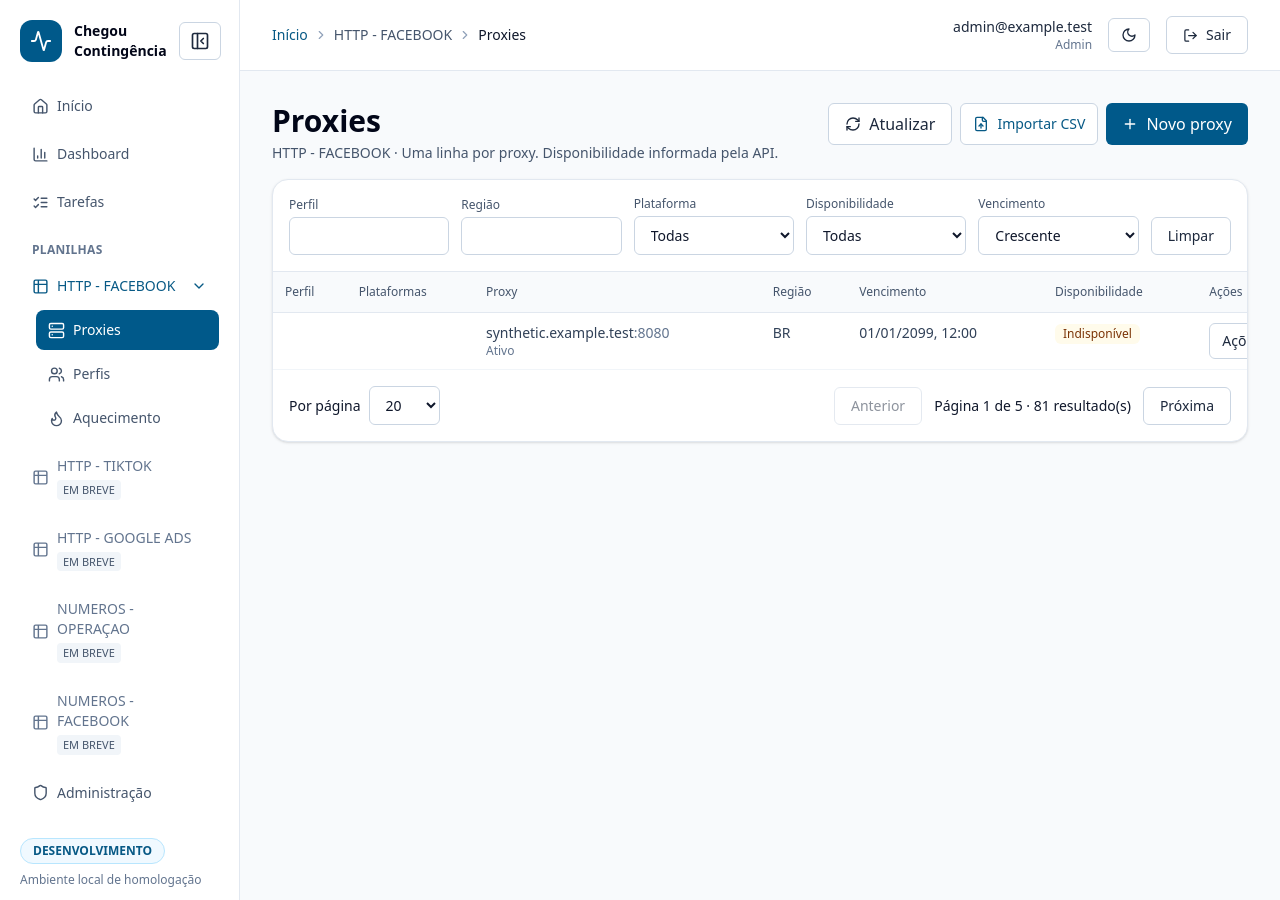
Scenario: cadastro usa CSRF existente e consome resposta 201; não usa storage
Check: the text "synthetic.example.test" is shown, box [486, 323, 634, 342]
Click the button "Novo proxy".
click(1177, 124)  # box [1106, 103, 1248, 145]
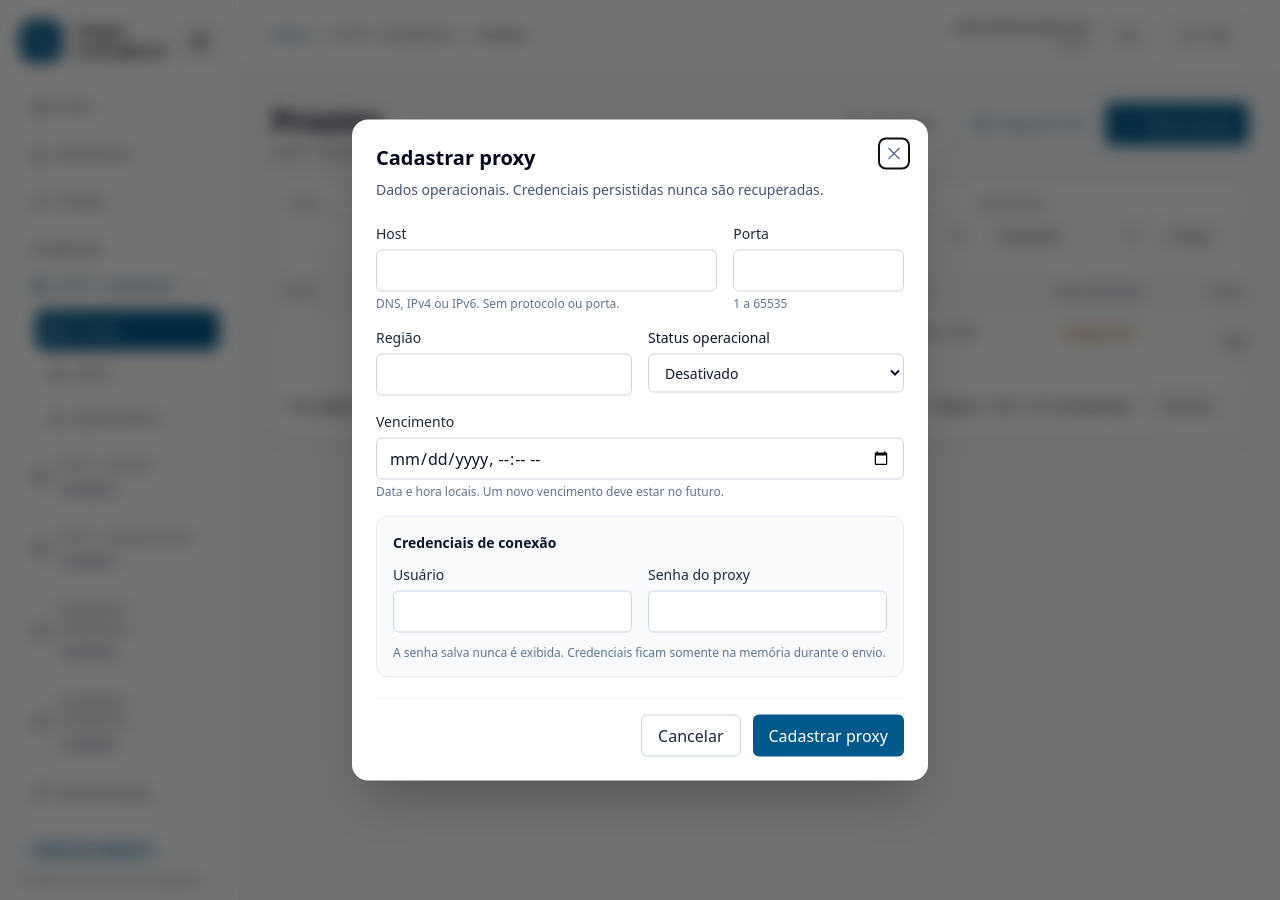
Check: the dialog is shown, box [352, 120, 928, 780]
Type "new.synthetic.test" into the field labelled "Host".
click(547, 270); type("new.synthetic.test")  # box [376, 250, 717, 292]
Type "3128" into the field labelled "Porta".
click(819, 270); type("3128")  # box [733, 250, 904, 292]
Type "BR" into the field labelled "Região".
click(504, 374); type("BR")  # box [376, 354, 632, 396]
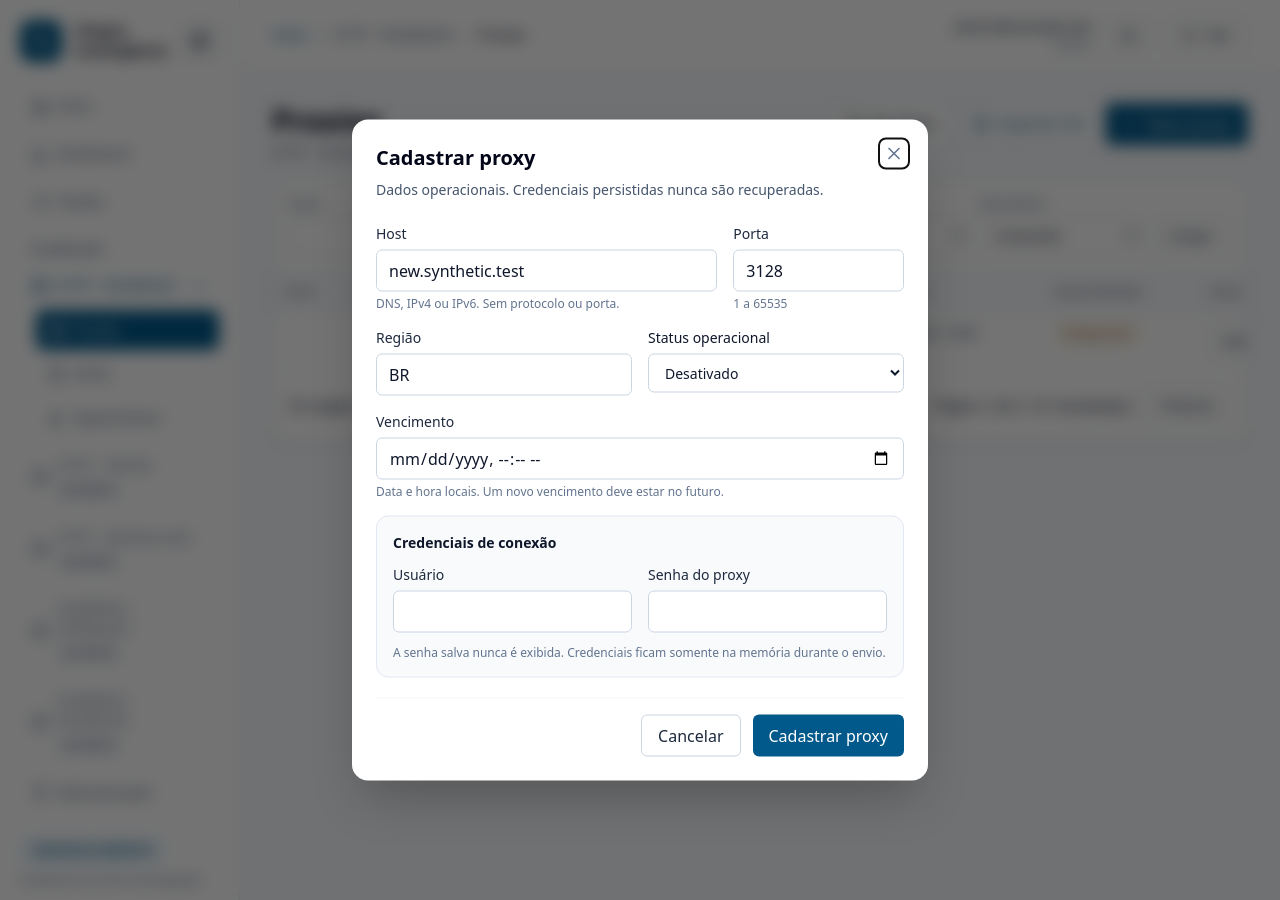
Type "2099-01-01T12:00" into the field labelled "Vencimento".
click(640, 458); type("2099-01-01T12:00")  # box [376, 438, 904, 480]
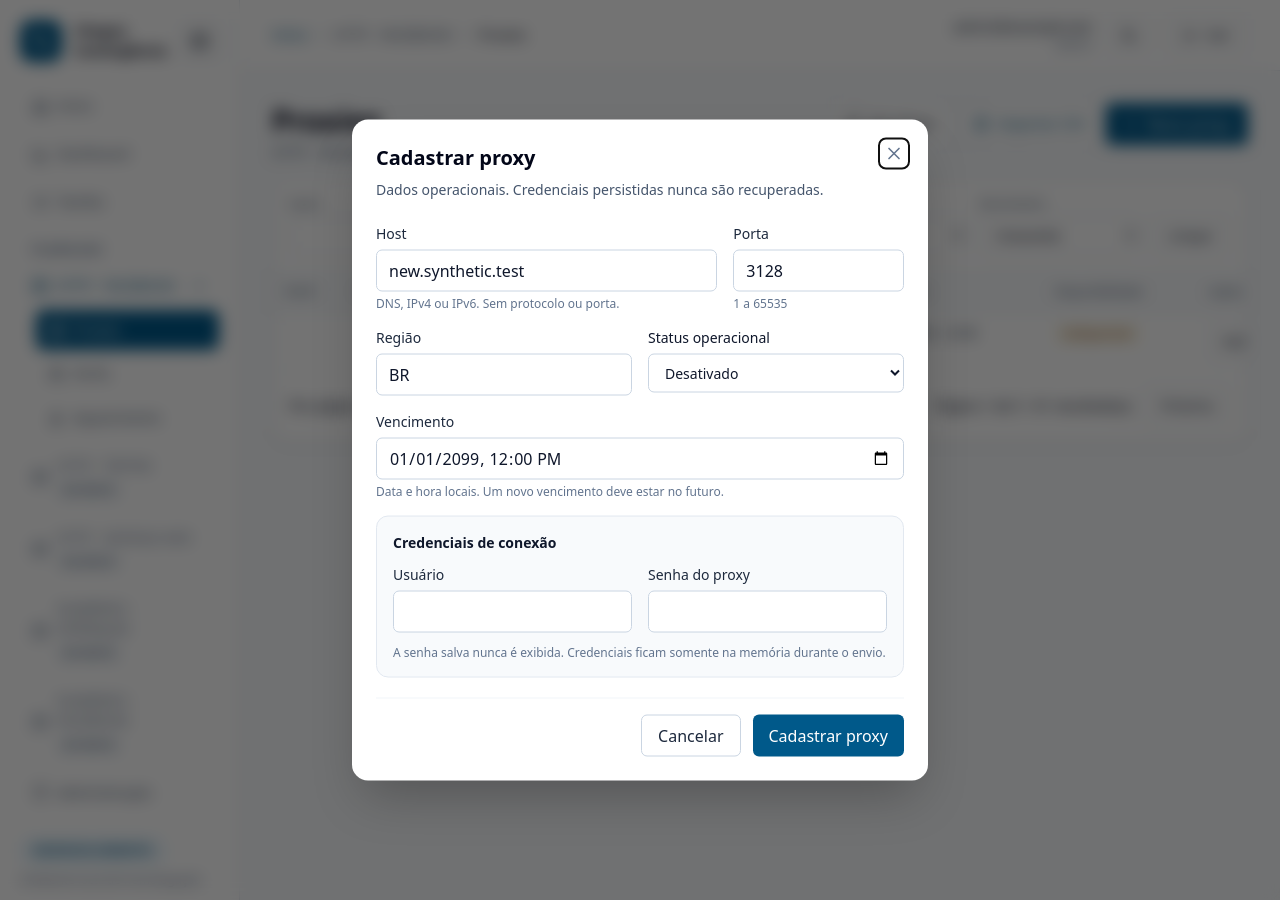
Type "synthetic-user" into the field labelled "Usuário".
click(512, 612); type("synthetic-user")  # box [393, 590, 632, 632]
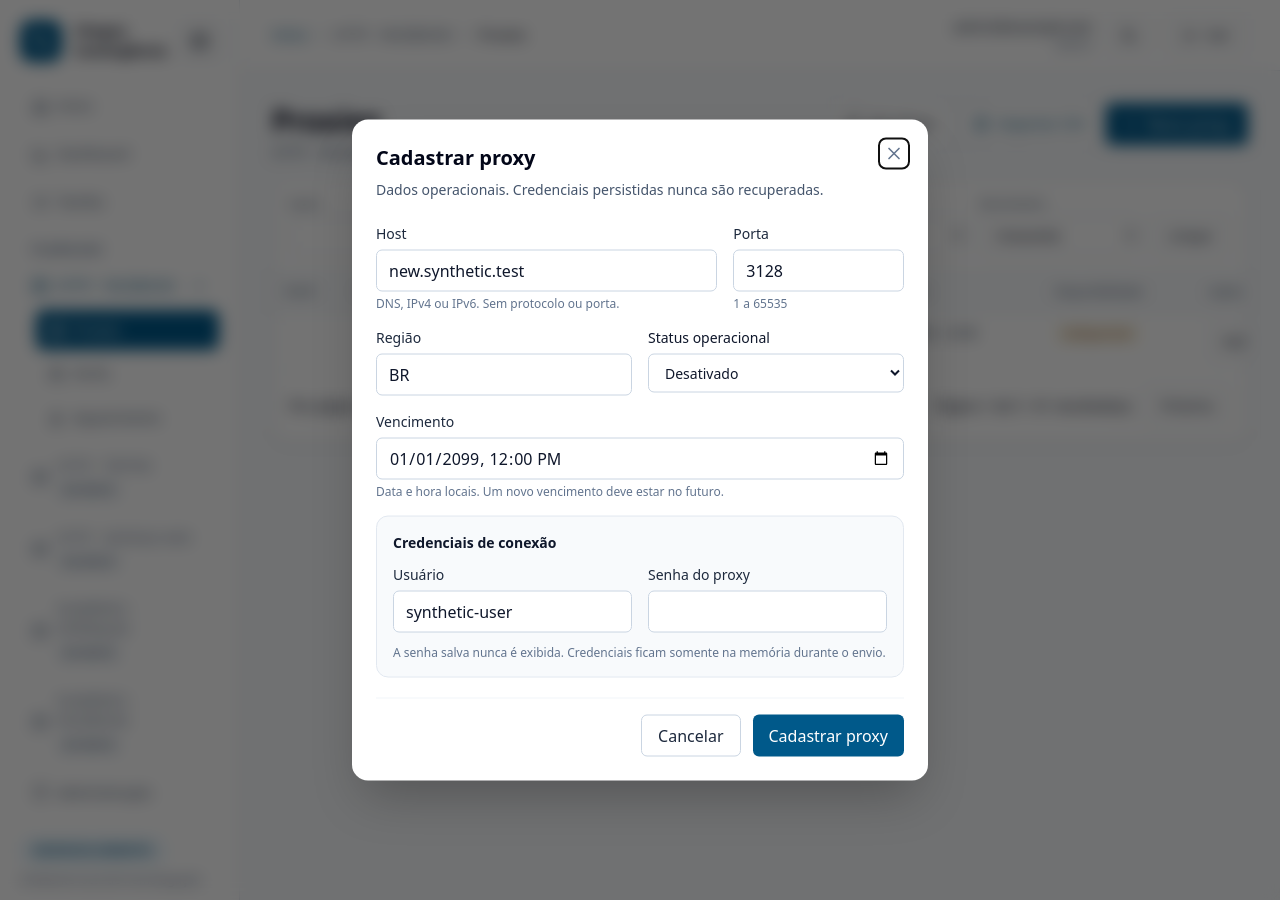
Type "Synthetic!123" into the password field labelled "Senha do proxy".
click(768, 612); type("Synthetic!123")  # box [648, 590, 887, 632]
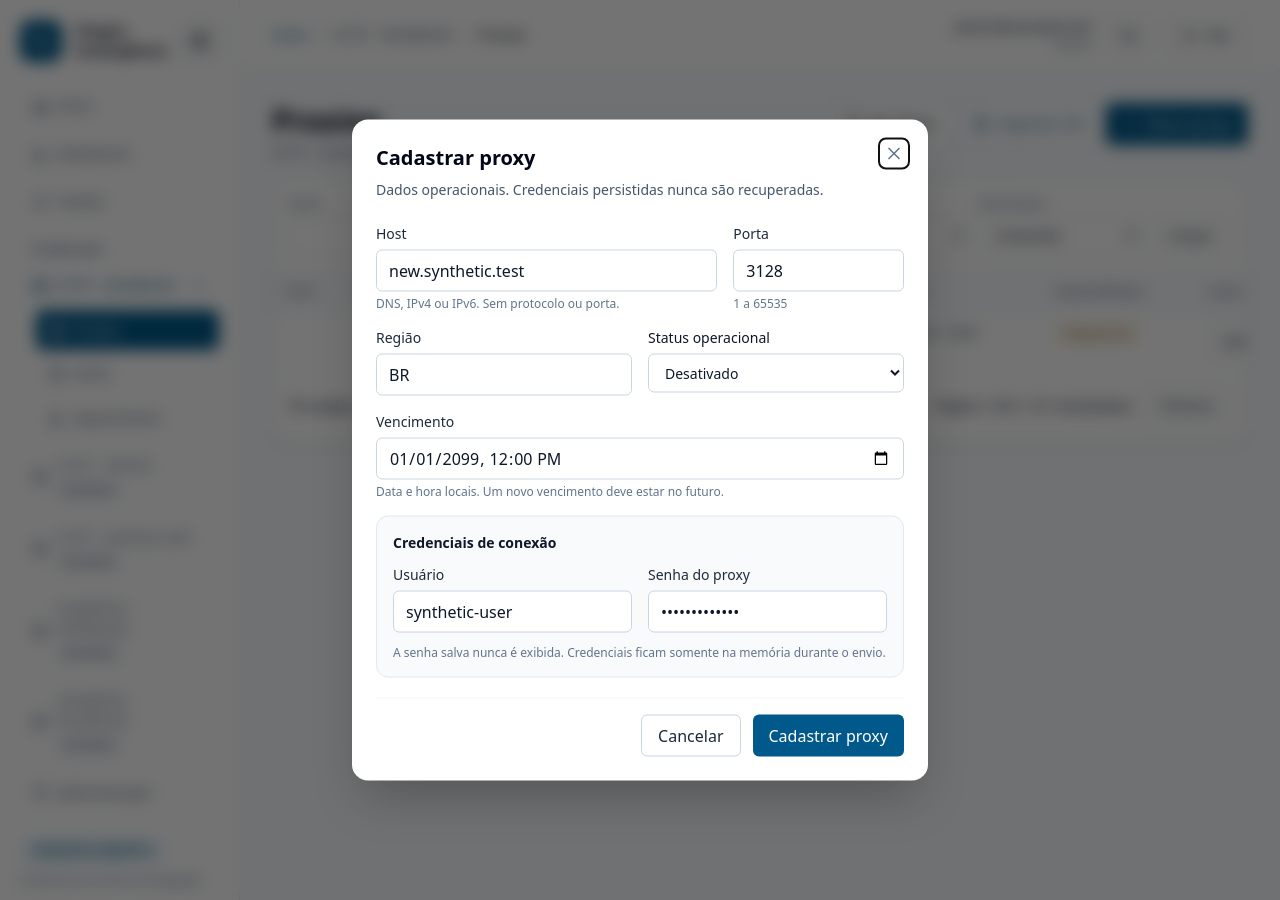
Click the button "Cadastrar proxy".
click(828, 736)  # box [752, 714, 904, 756]
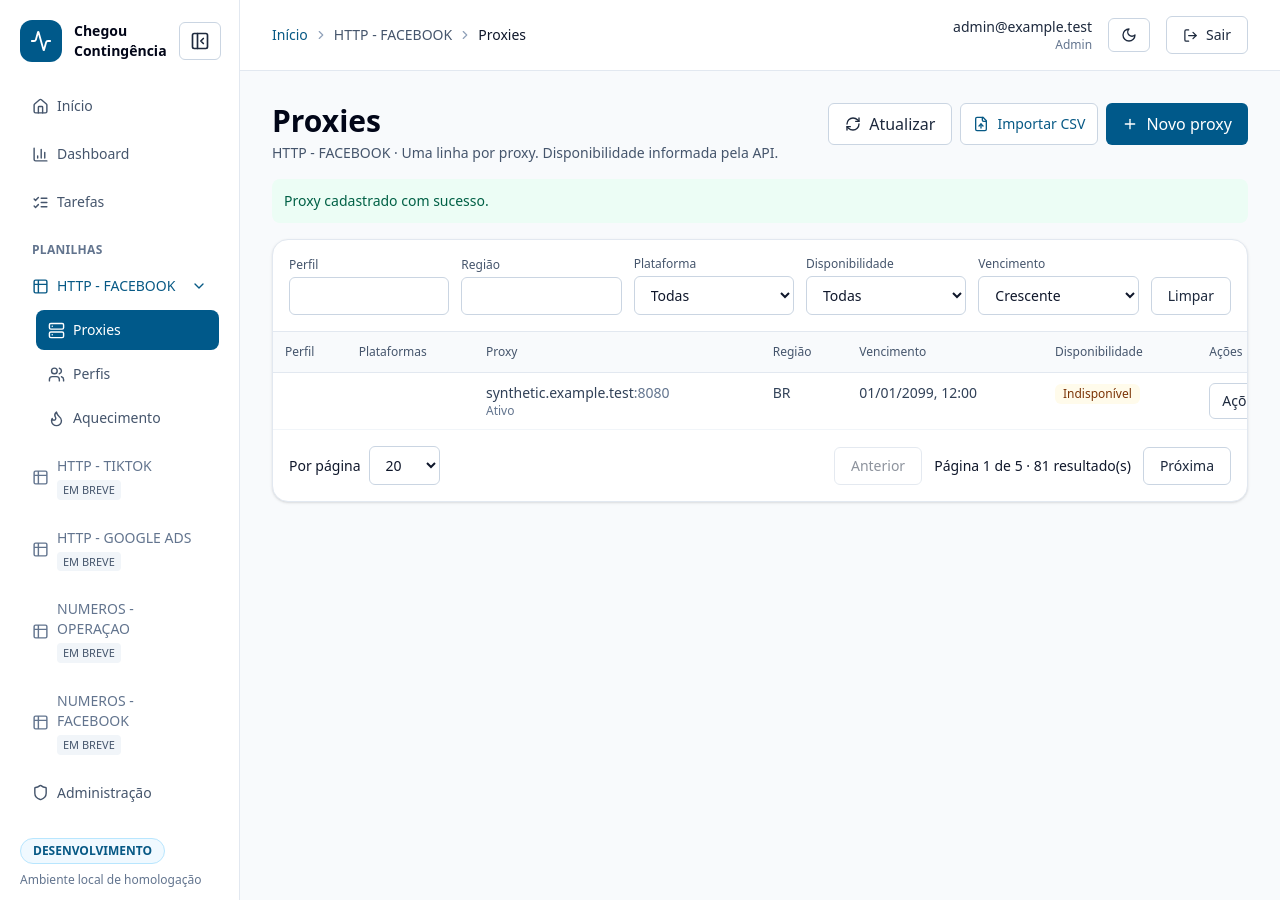
Check: the text "Proxy cadastrado com sucesso." is shown, box [272, 179, 1248, 223]
